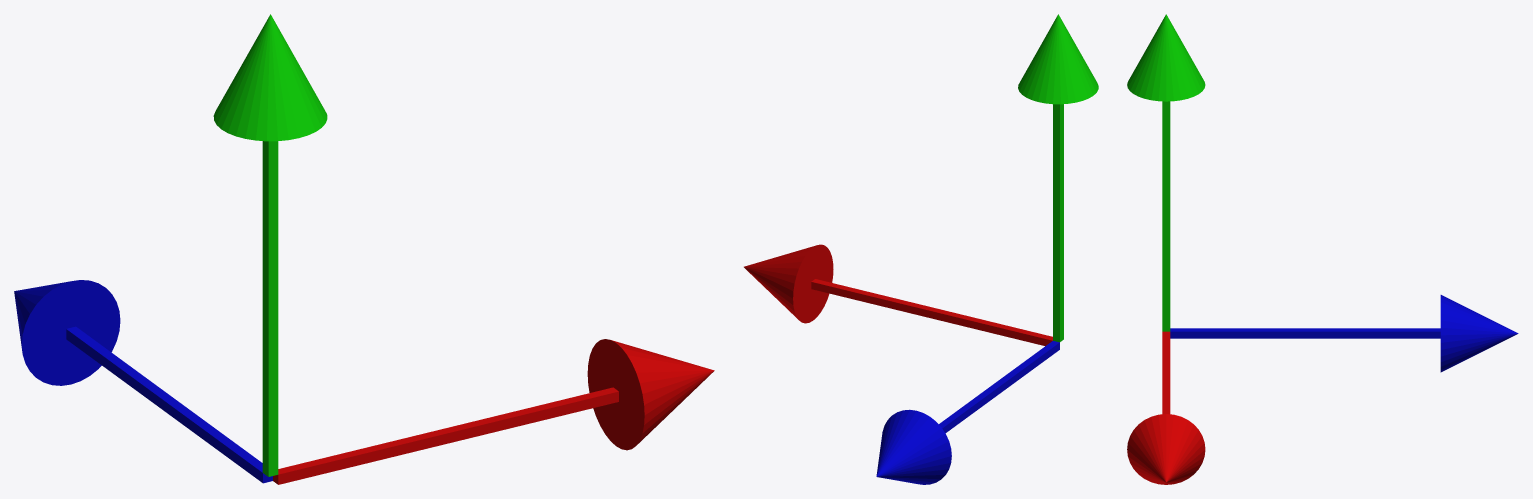
The model's file is oxygizmo.obj.
3 renders of one model, left to right at view 1: azimuth 30°, elevation 25°; view 2: azimuth 150°, elevation 25°; view 3: azimuth 270°, elevation 25°, orthographic. The views are drawn at different scales.
Visible parts, largest first — view 1: Cube_Cube.001, Cube.001_Cube.002, Cube.002_Cube.003; view 2: Cube.001_Cube.002, Cube_Cube.001, Cube.002_Cube.003; view 3: Cube.002_Cube.003, Cube_Cube.001, Cube.001_Cube.002.
Part boxes in pixels (x1,y1,x2,y2): Cube_Cube.001: (213, 14, 327, 476); Cube.001_Cube.002: (273, 339, 714, 484); Cube.002_Cube.003: (14, 280, 272, 483); Cube.001_Cube.002: (744, 244, 1052, 345); Cube_Cube.001: (1018, 14, 1098, 342); Cube.002_Cube.003: (876, 341, 1059, 484); Cube.002_Cube.003: (1170, 295, 1518, 372); Cube_Cube.001: (1127, 14, 1205, 331); Cube.001_Cube.002: (1127, 331, 1205, 484).
Size of the model in its own units: 10 by 10 by 10.
